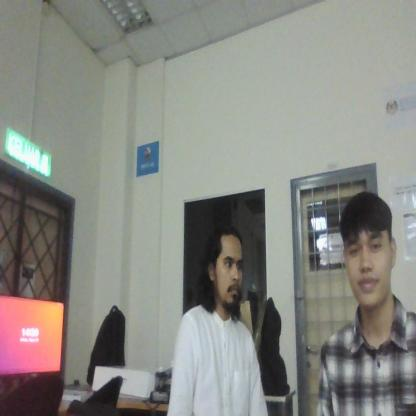Open-Eyes: (344, 235, 394, 270), (219, 255, 247, 279)
